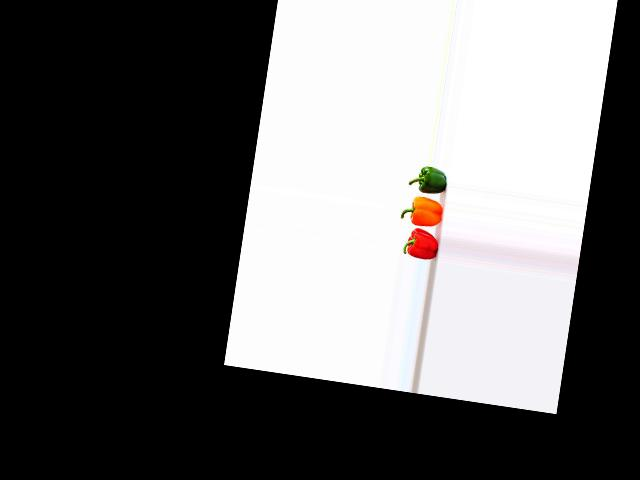bell_pepper: (395, 225, 439, 263)
